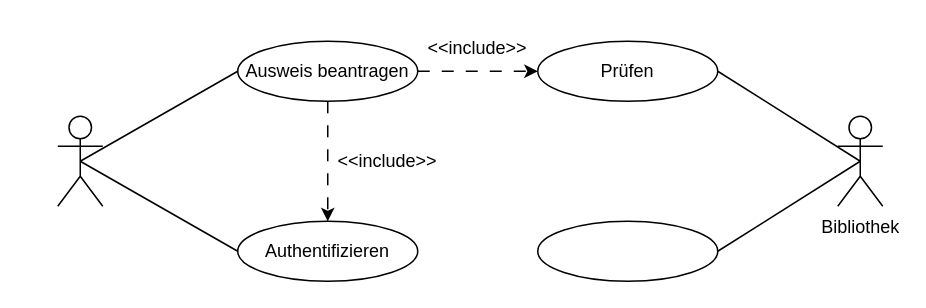
Some shapes in this 926 by 308 pixel diagram are drawn without their labels. Each missing label, with the centre of its shape:
"Antragssteller" goes at [79,160].
"Benutzerkonto erstellen" goes at [627,250].
